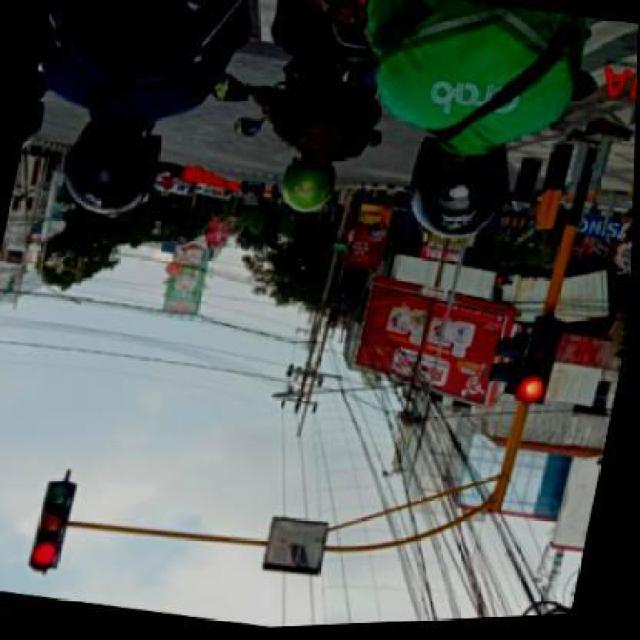Traffic Light -Red-: (22, 476, 82, 586), (517, 324, 565, 414)
